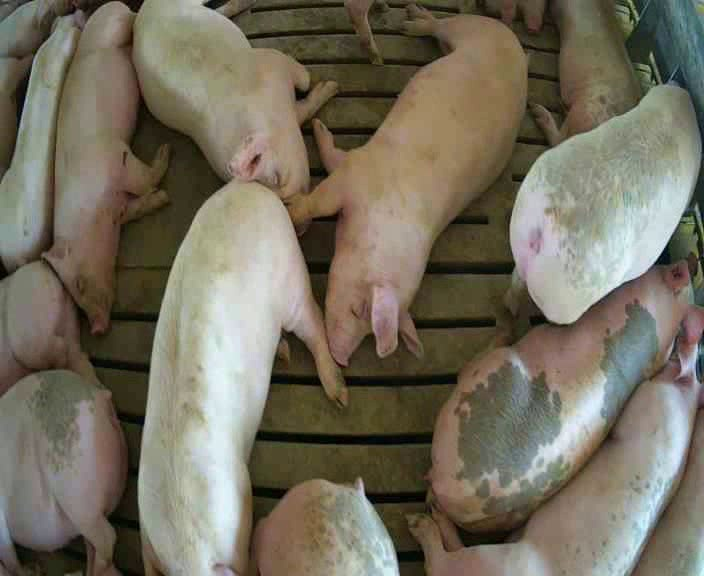pig: (287, 4, 526, 364), (139, 181, 345, 573), (426, 263, 703, 534), (408, 336, 703, 572), (501, 85, 698, 323), (43, 2, 167, 333), (0, 370, 126, 575), (0, 11, 83, 271), (530, 2, 639, 145), (249, 478, 398, 575), (0, 260, 97, 394)
